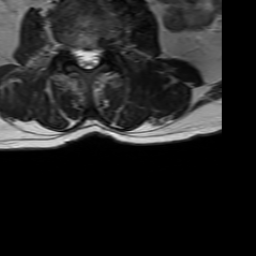CCS_normal: (83, 38, 92, 76)
LFS_severe_stenosis: (101, 34, 112, 59)
LLS_normal: (92, 39, 101, 69)
RFS_stenosis: (64, 34, 73, 58)
RLS_normal: (73, 39, 83, 70)
